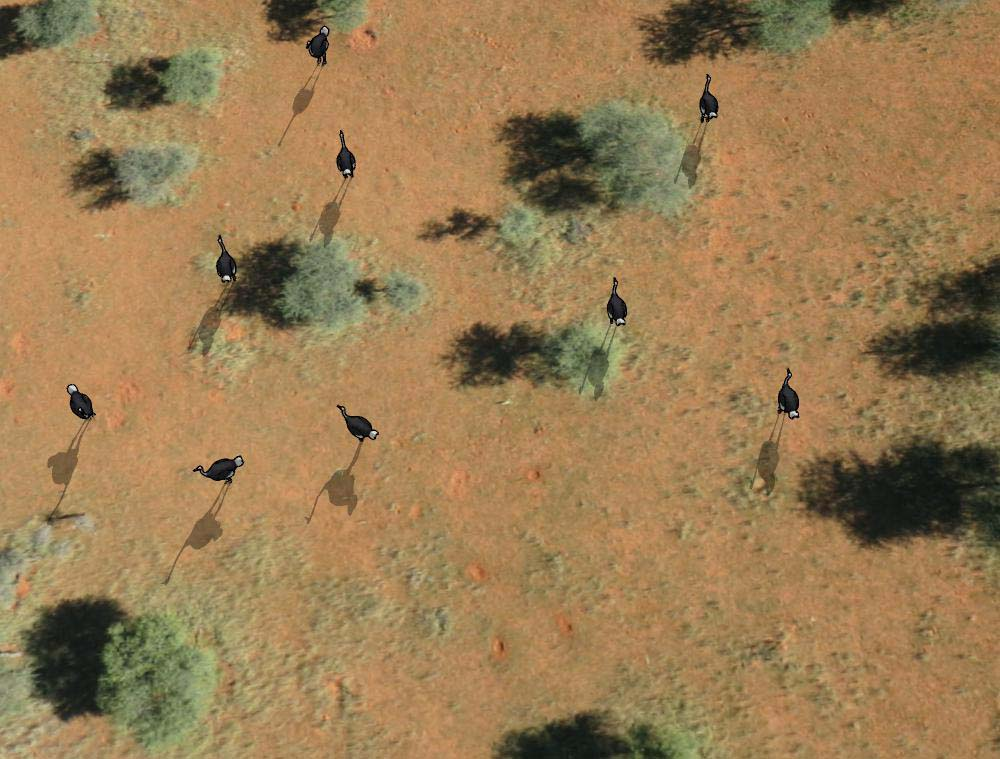springbok: (330, 398, 381, 448), (191, 450, 246, 489), (601, 274, 635, 334), (64, 377, 105, 422), (776, 365, 805, 425), (330, 128, 361, 181), (303, 22, 337, 68), (695, 67, 722, 124), (214, 224, 239, 285)
